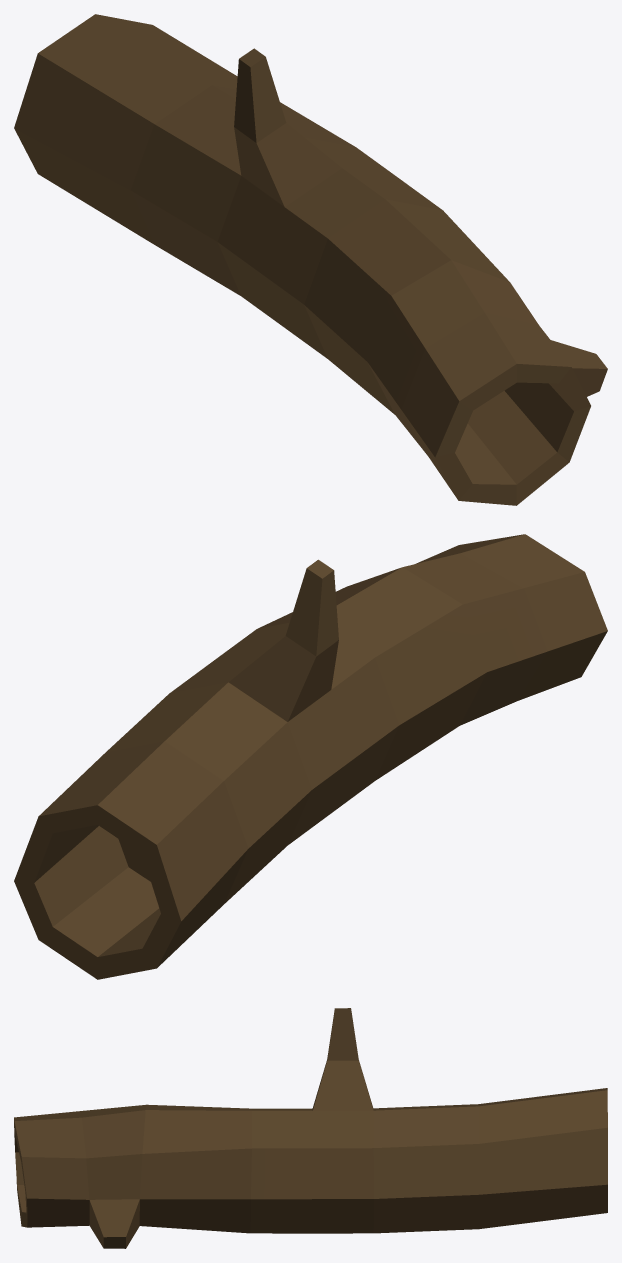
Rendered from Stump_08.fbx.
The picture shows the model from 3 angles, top to bottom: view 1: azimuth 30°, elevation 25°; view 2: azimuth 150°, elevation 25°; view 3: azimuth 270°, elevation 25°; orthographic projection. The views are drawn at different scales.
Visible parts, largest first — view 1: Stump_08; view 2: Stump_08; view 3: Stump_08.
Part boxes in pixels (left/top/right/bottom): Stump_08: left=14, top=14, right=607, bottom=505; Stump_08: left=14, top=534, right=607, bottom=979; Stump_08: left=14, top=1008, right=607, bottom=1248.
Bounding box in the file's own units: 43.57 × 50.6 × 131.
